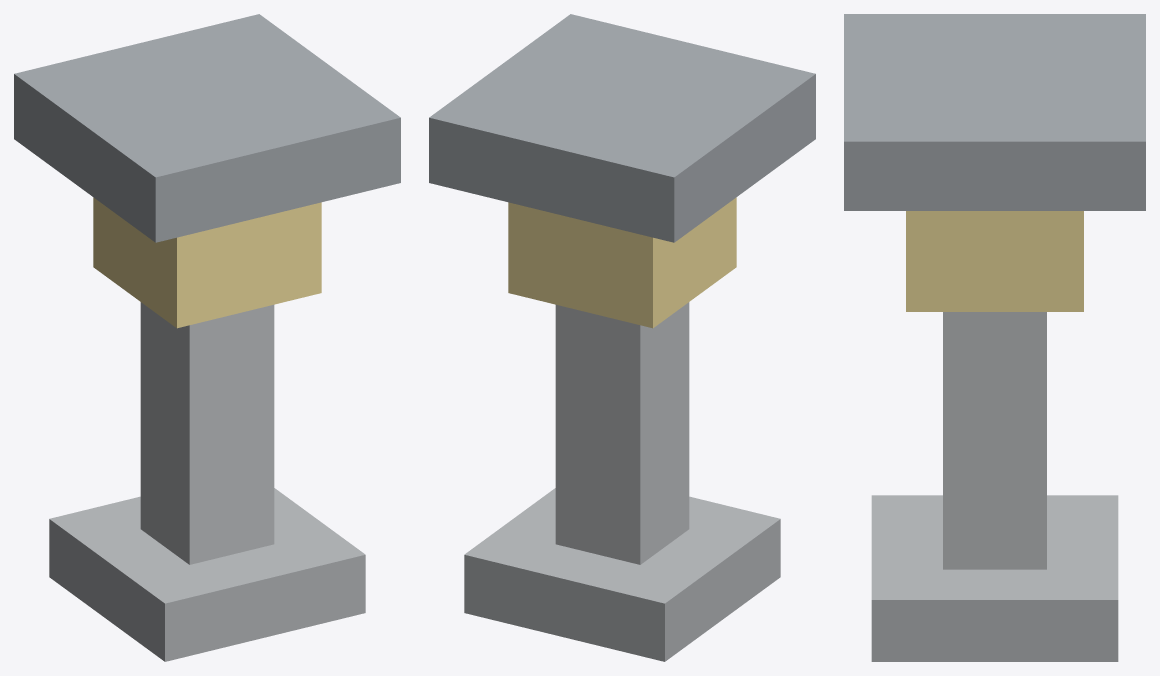
Rendered from prop-stone-lantern.glb.
The picture shows the model from 3 angles, left to right: view 1: azimuth 30°, elevation 25°; view 2: azimuth 150°, elevation 25°; view 3: azimuth 270°, elevation 25°; orthographic projection. The views are drawn at different scales.
Visible parts, largest first — view 1: prop-stone-lantern; view 2: prop-stone-lantern; view 3: prop-stone-lantern.
Part boxes in pixels (x1=…): prop-stone-lantern: x1=14, y1=14, x2=400, y2=661; prop-stone-lantern: x1=429, y1=14, x2=815, y2=661; prop-stone-lantern: x1=844, y1=14, x2=1145, y2=661.
Size of the model in its own units: 1.1 by 2.14 by 1.1.
